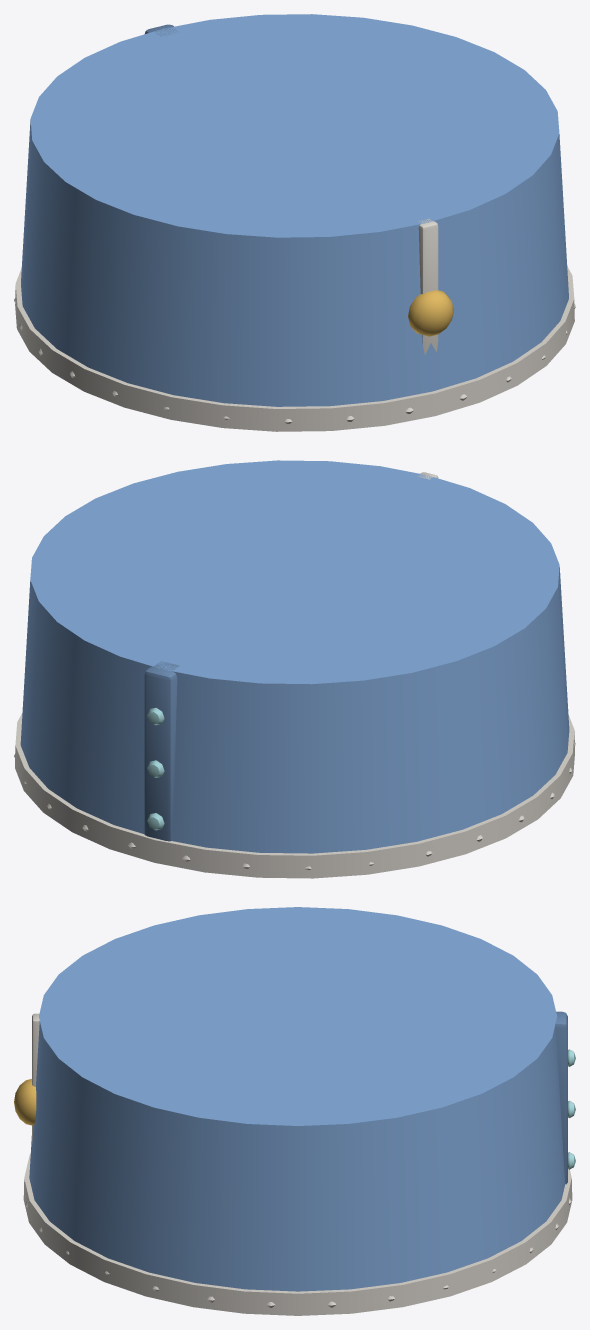
File: Minion_Ring_0.fbx
3 views of the same model, one above another, from view 1: azimuth 30°, elevation 25°; view 2: azimuth 150°, elevation 25°; view 3: azimuth 270°, elevation 25° (orthographic). The views are drawn at different scales.
Parts seen in each view (by area): view 1: Minion_Ring_0; view 2: Minion_Ring_0; view 3: Minion_Ring_0.
Part boxes in pixels (box(x1,y1,x2,y2)): Minion_Ring_0: box(14, 14, 575, 431); Minion_Ring_0: box(14, 460, 575, 878); Minion_Ring_0: box(14, 907, 575, 1315).
Bounding box in the file's own units: 0.1219 × 0.045 × 0.1249.
